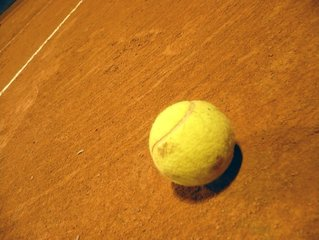tennis_ball: (148, 100, 236, 188)
